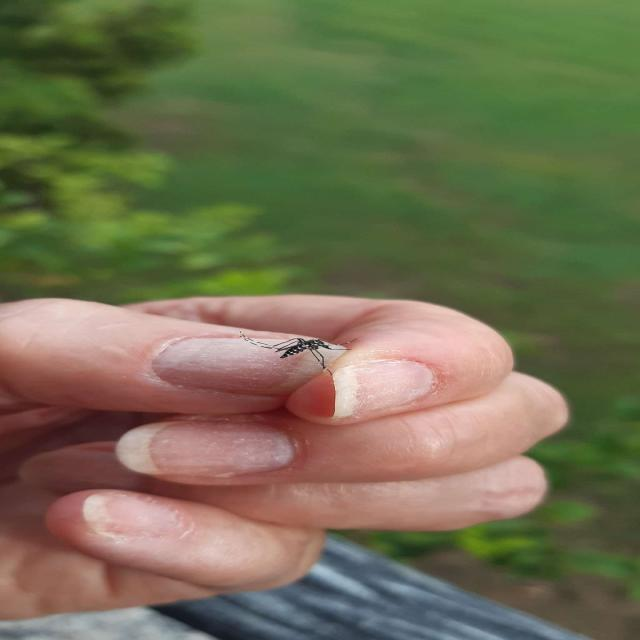albopictus: (225, 323, 357, 376)
